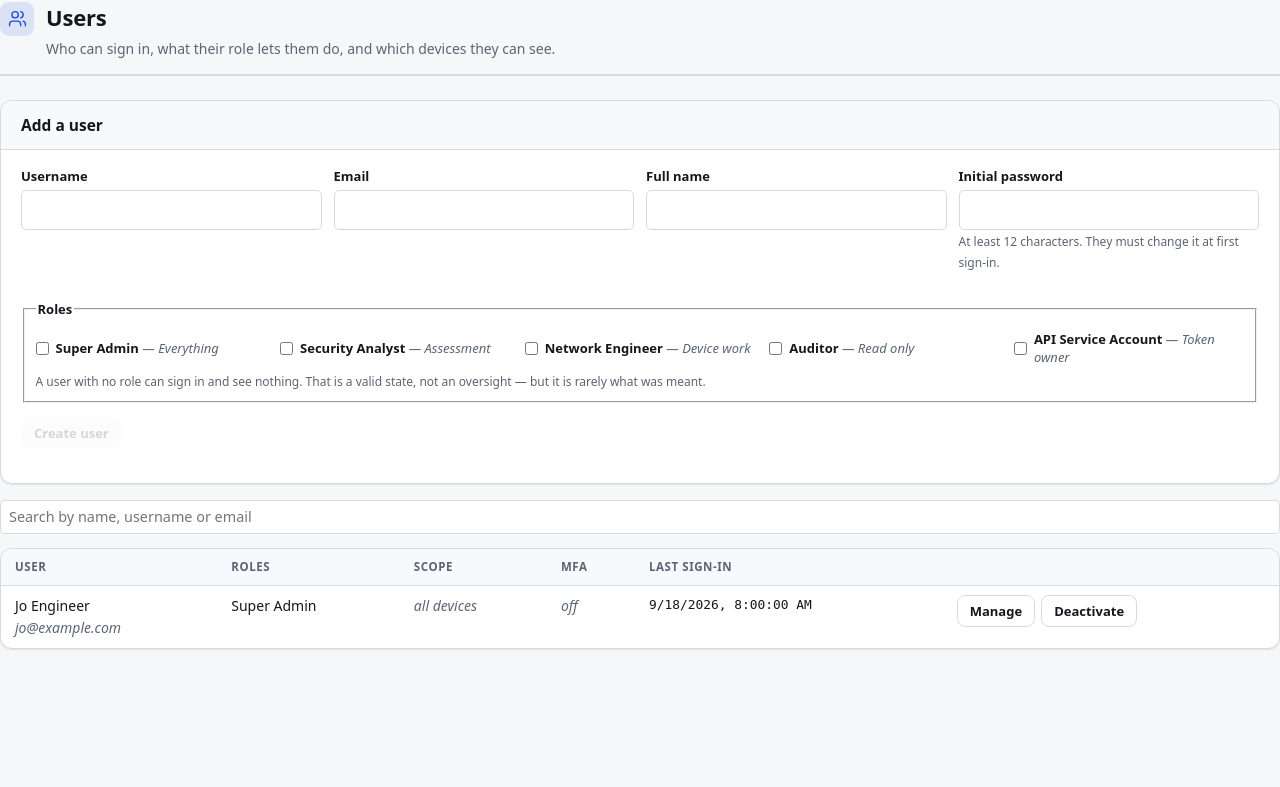
Test: UsersPage › what a scope actually means › warns in the editor when a stored scope will not bind
Click the button "Manage" at [996, 611], box [957, 595, 1035, 627]
(page scrolled)
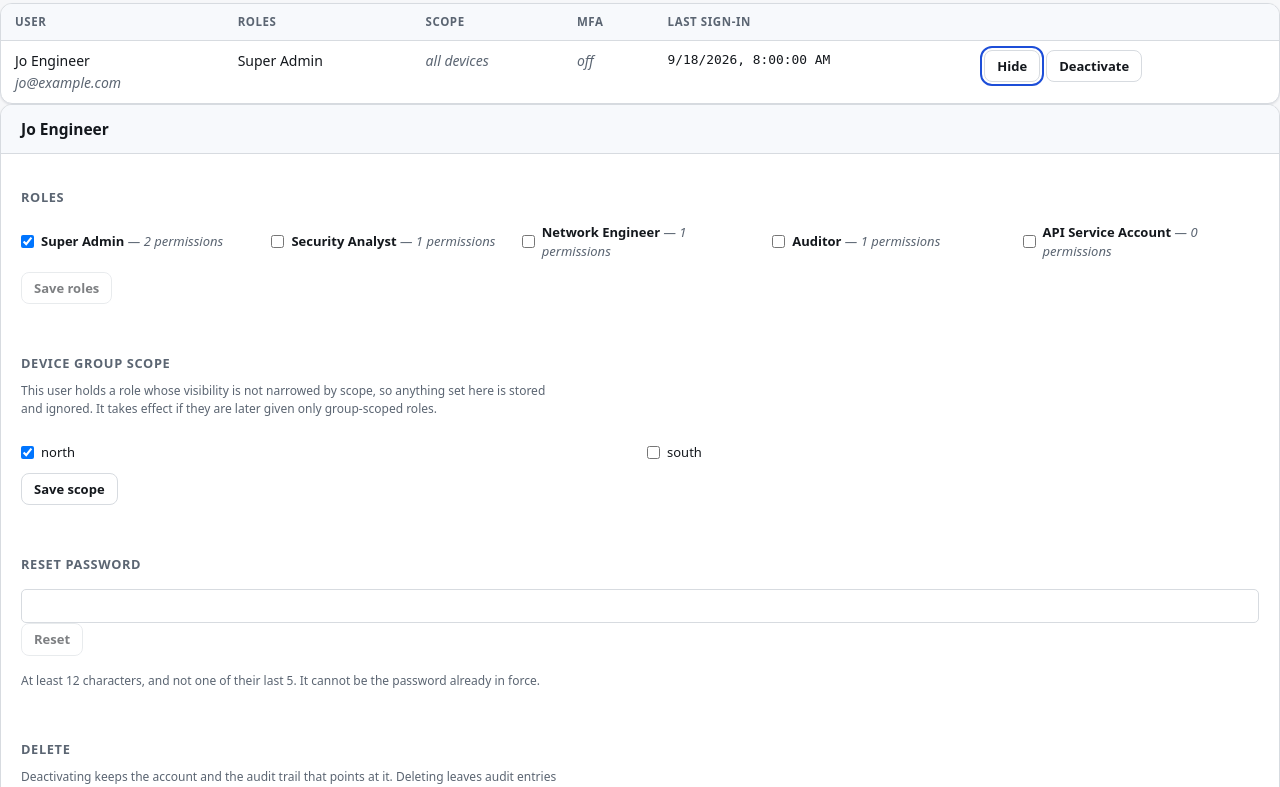
Check: the text "stored and ignored" is shown, box [21, 382, 545, 417]
